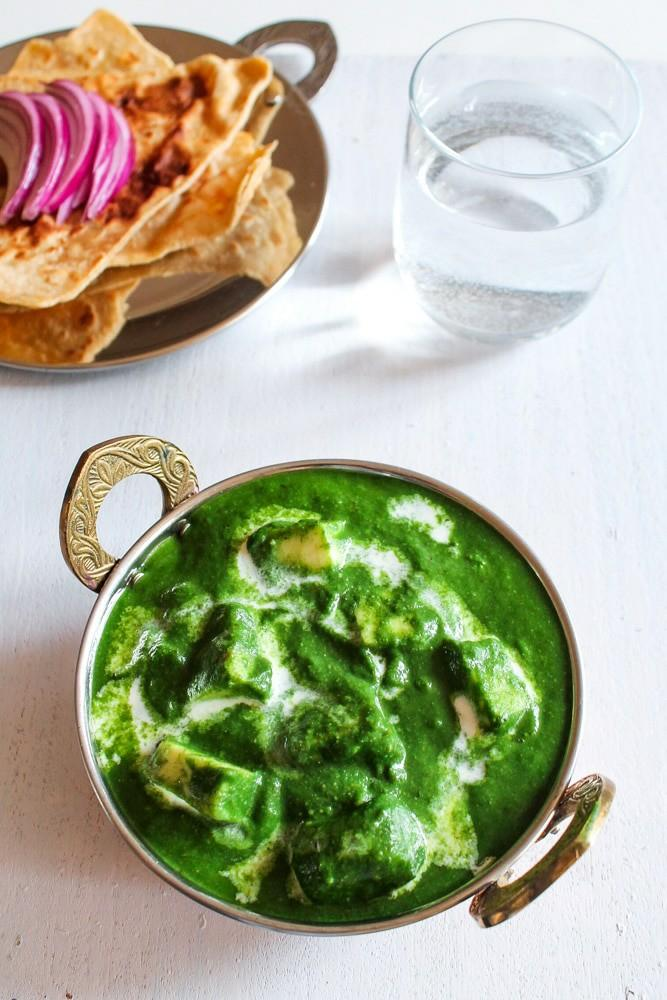PalakPaneer: (93, 471, 567, 924)
